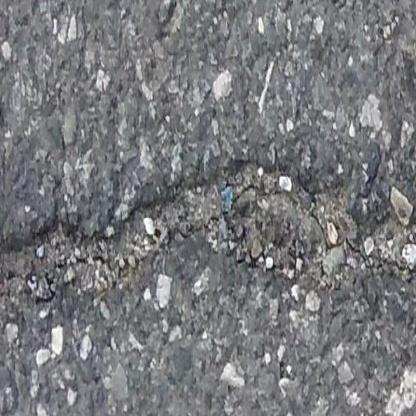Cracks: (0, 155, 416, 306)
